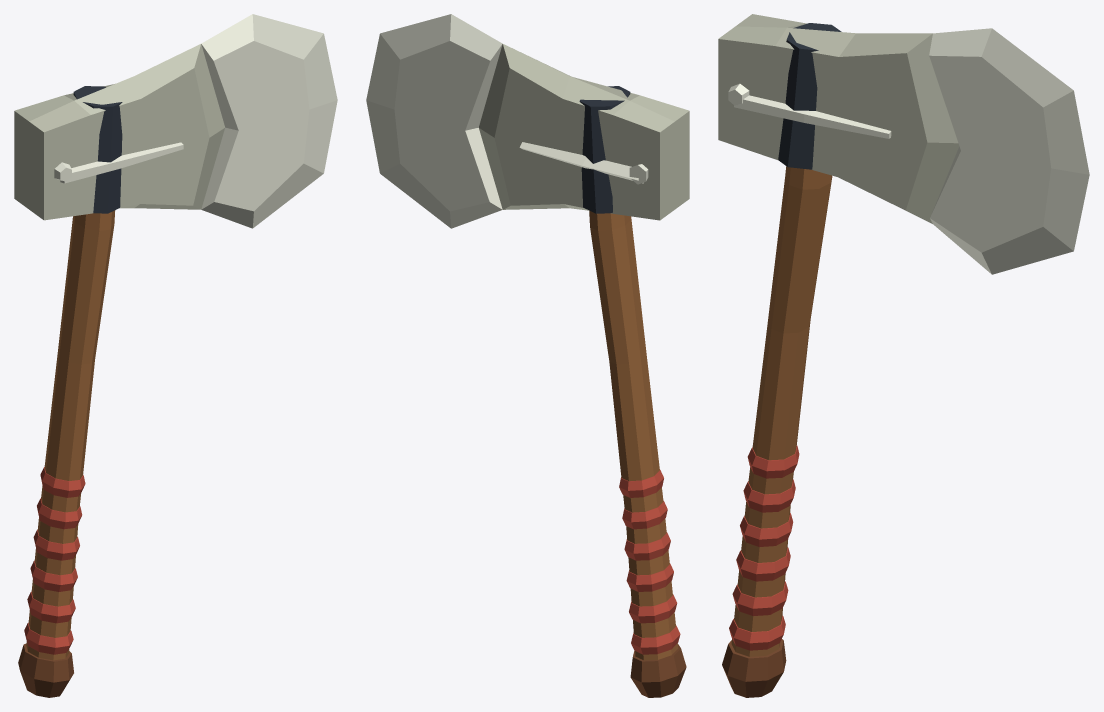
File: bogsilver_axe_viewmodel.glb
3 renders of one model, left to right at view 1: azimuth 30°, elevation 25°; view 2: azimuth 150°, elevation 25°; view 3: azimuth 330°, elevation 25°, orthographic. The views are drawn at different scales.
Visible parts, largest first — view 1: Bogsilver_Axe_Head.001, Bogsilver_Axe_Bit.001, Handle.013, Bogsilver_Axe_Socket.001, Handle_Butt.013, Bogsilver_Axe_Rib_1.001, Grip_Wrap_1.013, Grip_Wrap_2.013, Grip_Wrap_3.013, Grip_Wrap_4.013, Grip_Wrap_5.013, Grip_Wrap_6.013; view 2: Bogsilver_Axe_Head.001, Bogsilver_Axe_Bit.001, Handle.013, Bogsilver_Axe_Socket.001, Handle_Butt.013, Bogsilver_Axe_Rib_2.001, Grip_Wrap_1.013, Grip_Wrap_2.013, Grip_Wrap_3.013, Grip_Wrap_4.013, Grip_Wrap_5.013, Grip_Wrap_6.013; view 3: Bogsilver_Axe_Bit.001, Bogsilver_Axe_Head.001, Handle.013, Bogsilver_Axe_Socket.001, Handle_Butt.013, Bogsilver_Axe_Rib_1.001, Grip_Wrap_1.013, Grip_Wrap_2.013, Grip_Wrap_3.013, Grip_Wrap_4.013, Grip_Wrap_6.013, Grip_Wrap_5.013.
Part boxes in pixels (bbox=[...]): Bogsilver_Axe_Head.001: bbox=[14, 44, 225, 220]; Bogsilver_Axe_Bit.001: bbox=[201, 14, 337, 228]; Handle.013: bbox=[26, 210, 115, 660]; Bogsilver_Axe_Socket.001: bbox=[73, 86, 122, 213]; Handle_Butt.013: bbox=[18, 643, 73, 697]; Bogsilver_Axe_Rib_1.001: bbox=[60, 142, 183, 183]; Grip_Wrap_1.013: bbox=[24, 622, 73, 654]; Grip_Wrap_2.013: bbox=[27, 591, 75, 623]; Grip_Wrap_3.013: bbox=[30, 560, 77, 591]; Grip_Wrap_4.013: bbox=[33, 529, 79, 560]; Grip_Wrap_5.013: bbox=[37, 498, 82, 529]; Grip_Wrap_6.013: bbox=[40, 467, 85, 497]; Bogsilver_Axe_Head.001: bbox=[478, 44, 689, 220]; Bogsilver_Axe_Bit.001: bbox=[366, 14, 502, 228]; Handle.013: bbox=[589, 210, 678, 660]; Bogsilver_Axe_Socket.001: bbox=[579, 86, 630, 213]; Handle_Butt.013: bbox=[630, 643, 686, 697]; Bogsilver_Axe_Rib_2.001: bbox=[519, 142, 643, 183]; Grip_Wrap_1.013: bbox=[631, 625, 680, 654]; Grip_Wrap_2.013: bbox=[629, 594, 677, 623]; Grip_Wrap_3.013: bbox=[626, 563, 673, 591]; Grip_Wrap_4.013: bbox=[624, 532, 670, 560]; Grip_Wrap_5.013: bbox=[622, 500, 667, 529]; Grip_Wrap_6.013: bbox=[619, 470, 663, 497]; Bogsilver_Axe_Bit.001: bbox=[929, 28, 1089, 274]; Bogsilver_Axe_Head.001: bbox=[718, 14, 959, 223]; Handle.013: bbox=[731, 166, 832, 656]; Bogsilver_Axe_Socket.001: bbox=[778, 23, 841, 169]; Handle_Butt.013: bbox=[722, 639, 786, 697]; Bogsilver_Axe_Rib_1.001: bbox=[734, 95, 891, 138]; Grip_Wrap_1.013: bbox=[729, 615, 785, 650]; Grip_Wrap_2.013: bbox=[732, 581, 788, 615]; Grip_Wrap_3.013: bbox=[736, 547, 790, 581]; Grip_Wrap_4.013: bbox=[740, 513, 793, 546]; Grip_Wrap_6.013: bbox=[747, 445, 799, 478]; Grip_Wrap_5.013: bbox=[743, 479, 795, 512].
Size of the model in its own units: 0.7331 by 1.39 by 0.1546.
